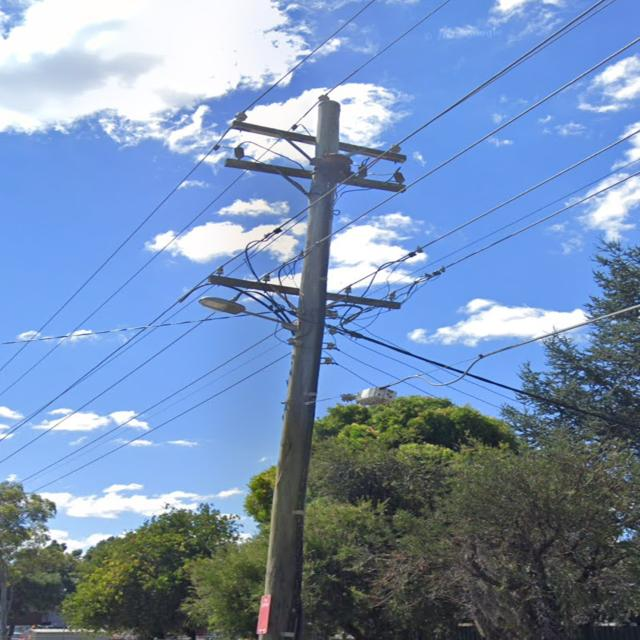HV-transmission: (217, 98, 406, 194)
crossarm: (233, 120, 406, 162), (208, 274, 402, 309), (227, 159, 406, 195)
streetlight: (198, 295, 296, 330)
timber-pole: (257, 98, 338, 632)
